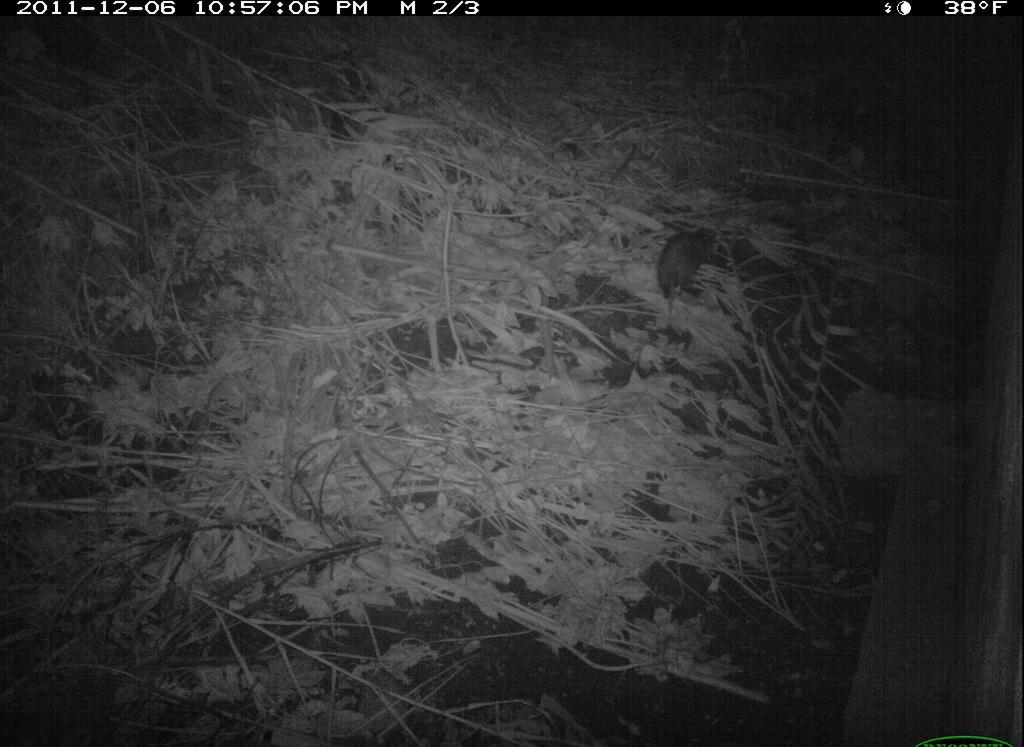opossum: (655, 222, 728, 331)
